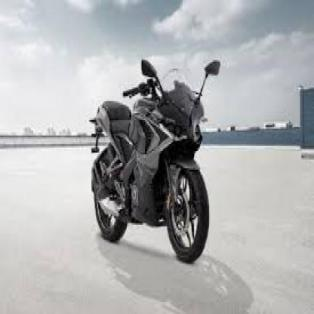Motocicleta: (90, 47, 223, 267)
